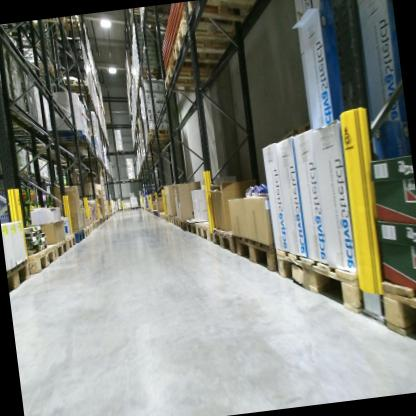pallet: (162, 10, 248, 77), (304, 248, 367, 320), (377, 275, 416, 351), (179, 0, 272, 31), (231, 226, 284, 277), (158, 57, 220, 100), (273, 241, 315, 298), (27, 243, 59, 279), (43, 123, 88, 147), (210, 222, 238, 260), (6, 257, 33, 291), (46, 15, 82, 37), (23, 53, 55, 75), (59, 71, 88, 92), (145, 128, 174, 145), (194, 220, 215, 243), (33, 17, 68, 30), (137, 62, 159, 80), (52, 237, 69, 260), (63, 232, 78, 253), (73, 229, 86, 244), (186, 219, 196, 235), (180, 217, 189, 232), (173, 214, 181, 230), (82, 225, 90, 238), (113, 146, 124, 155), (167, 213, 174, 225), (161, 209, 167, 221), (87, 224, 93, 233), (123, 205, 132, 211), (165, 213, 169, 223), (128, 176, 136, 181), (131, 205, 139, 210)
